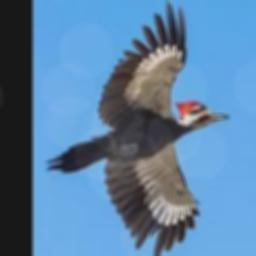Woodpecker: (45, 0, 230, 256)
